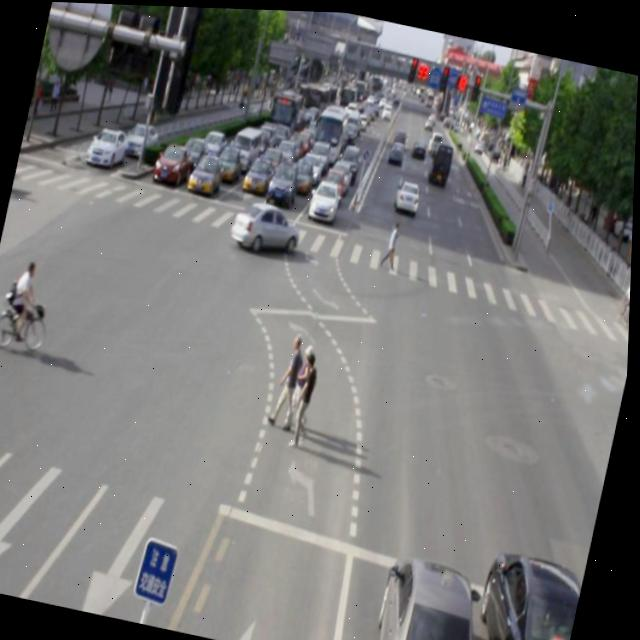car: (460, 544, 589, 640), (367, 548, 490, 640), (228, 194, 305, 256)
